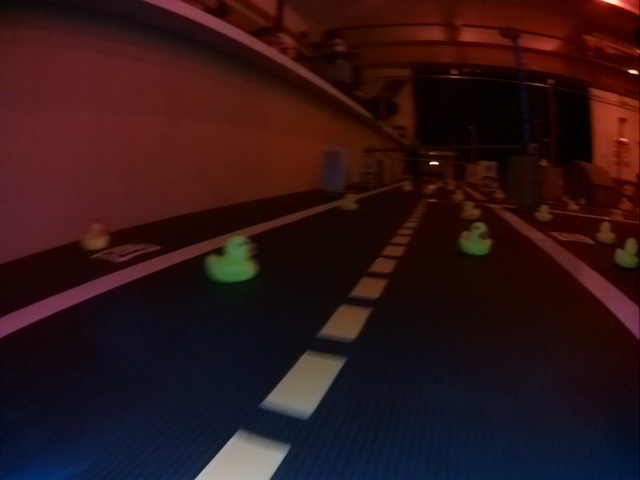Duckie: (206, 237, 257, 280), (80, 221, 110, 251), (463, 223, 492, 254), (616, 238, 638, 267), (463, 202, 482, 221), (597, 222, 614, 242), (536, 205, 553, 223), (341, 194, 359, 211)
QR code: (97, 243, 162, 262), (552, 233, 592, 242)
